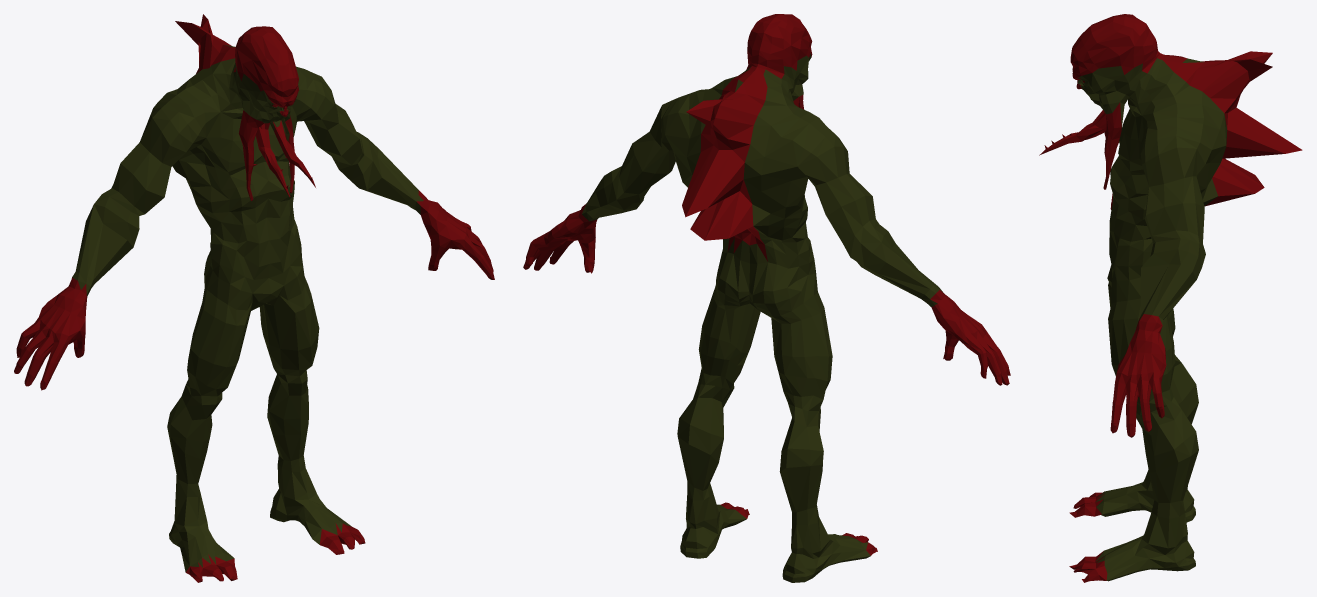
File: monster.fbx
3 renders of one model, left to right at view 1: azimuth 30°, elevation 25°; view 2: azimuth 150°, elevation 25°; view 3: azimuth 270°, elevation 25°, orthographic.
Parts seen in each view (by area): view 1: Object.1; view 2: Object.1; view 3: Object.1.
Boxes of the visible parts, x1,y1,x2,y2 form: Object.1: (14, 14, 494, 582); Object.1: (523, 14, 1010, 582); Object.1: (1039, 14, 1302, 582).
Size of the model in its own units: 3301 by 3478 by 1583.
